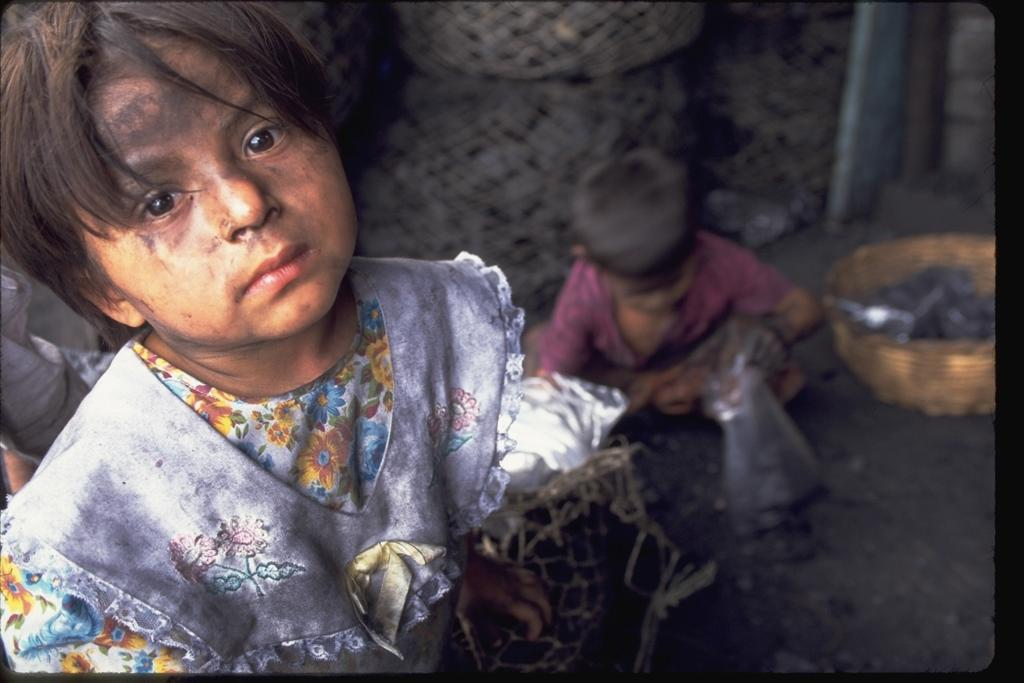face: (82, 36, 332, 334)
